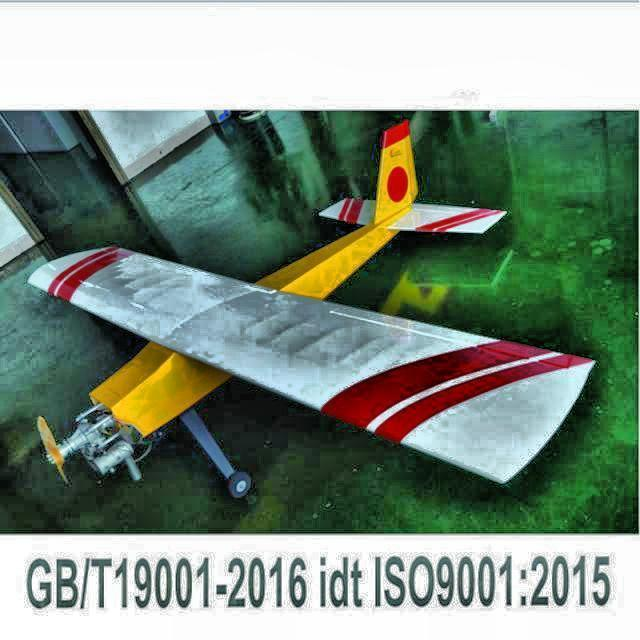iha: (21, 119, 602, 506)
